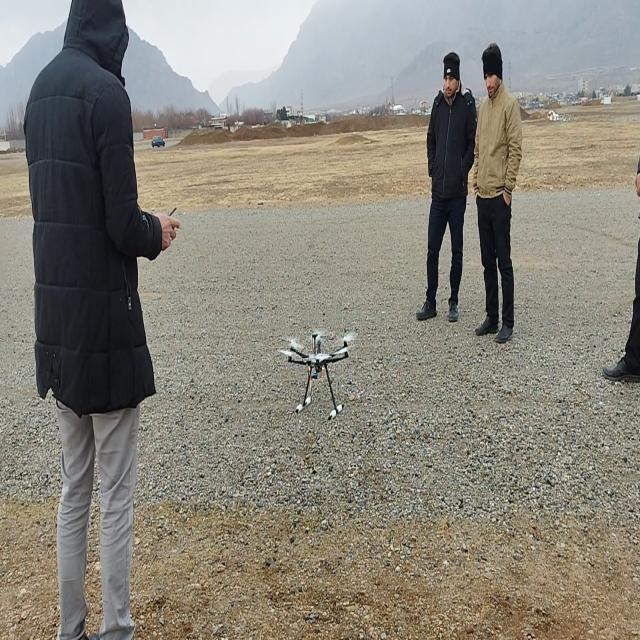drone: (281, 328, 358, 421)
